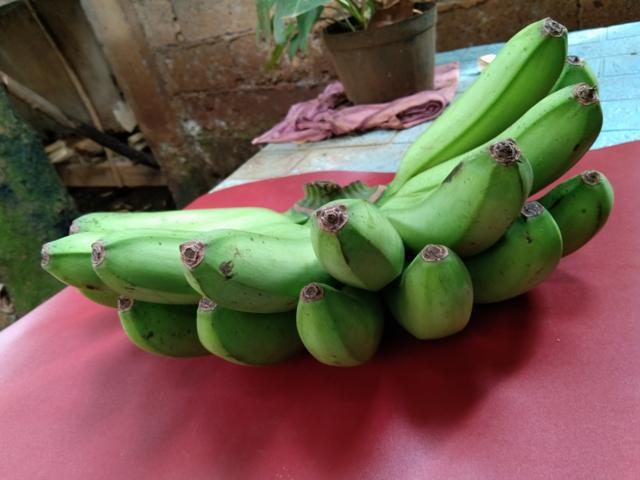freshunripe: (389, 14, 578, 168), (173, 221, 309, 314), (499, 77, 611, 186), (283, 268, 392, 378), (80, 204, 193, 309), (308, 192, 412, 296), (30, 203, 151, 292), (399, 236, 487, 357), (194, 290, 288, 383)
unripe: (354, 137, 530, 245)
